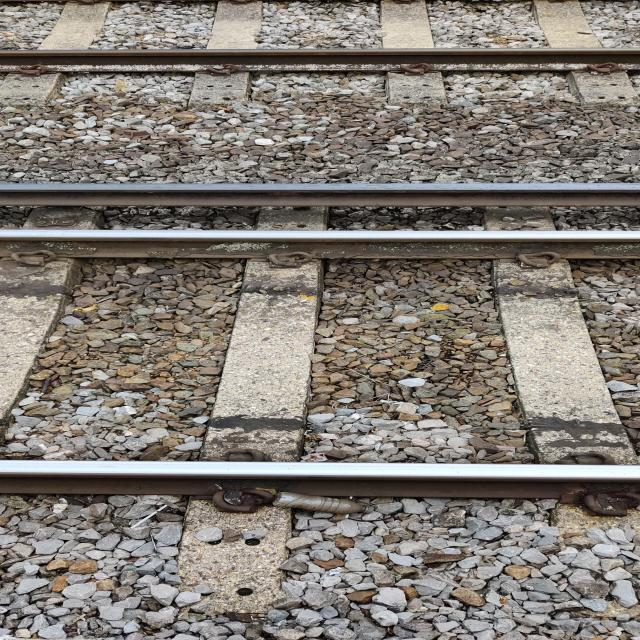litter: (273, 493, 378, 516)
